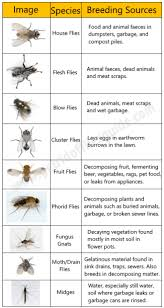phorid fly: (8, 193, 44, 221)
